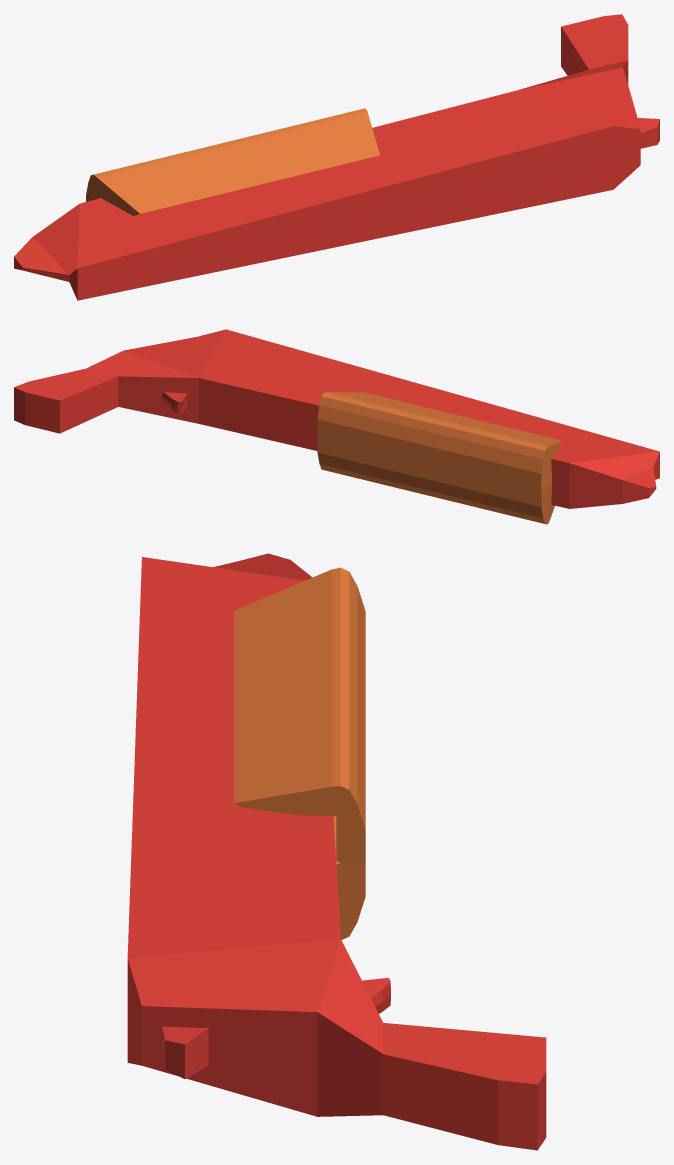
File: obj_shotgun.glb
3 renders of one model, top to bottom at view 1: azimuth 30°, elevation 25°; view 2: azimuth 150°, elevation 25°; view 3: azimuth 270°, elevation 25°, orthographic. The views are drawn at different scales.
Visible parts, largest first — view 1: shot_model, shot_handle; view 2: shot_model, shot_handle; view 3: shot_model, shot_handle.
Boxes of the visible parts, x1,y1,x2,y2 form: shot_model: (14,14,659,300); shot_handle: (86,108,379,215); shot_model: (14,329,659,508); shot_handle: (317,392,561,524); shot_model: (127,553,546,1150); shot_handle: (234,567,365,939).
Size of the model in its own units: 2.27 by 0.2952 by 0.7247.
